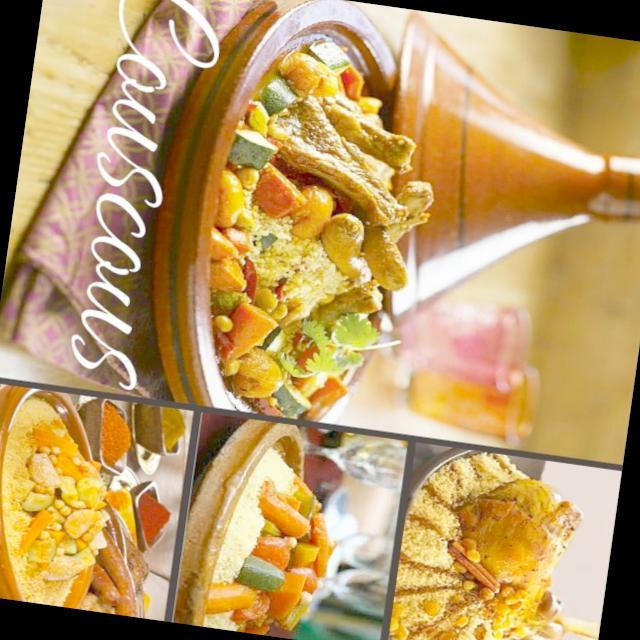Couscous: (175, 26, 452, 432), (168, 414, 350, 640), (0, 383, 123, 611)
